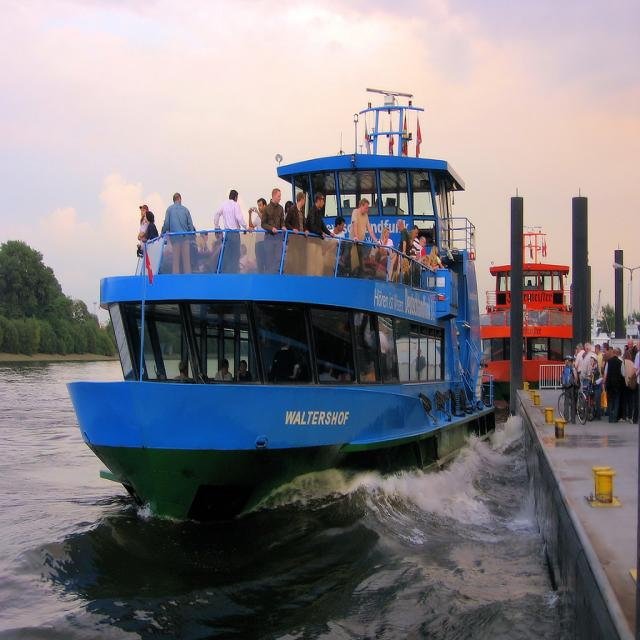Boat: (86, 89, 503, 504), (478, 227, 578, 397)
